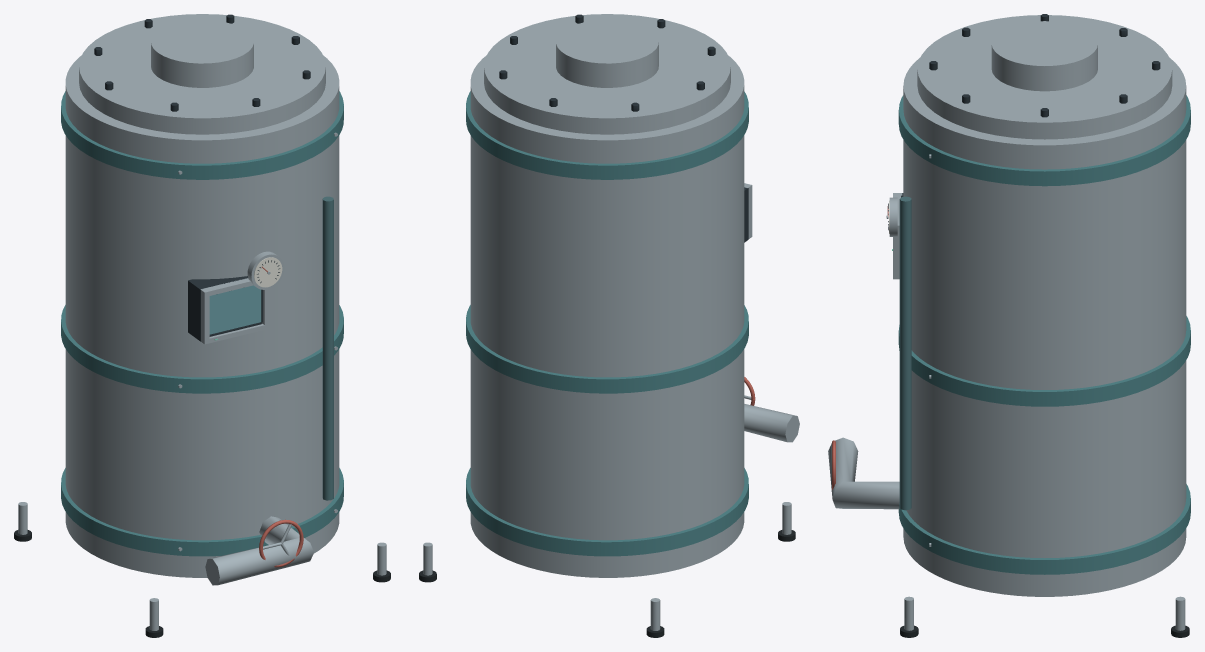
The model's file is PC_SF_ExpansionVessel.fbx.
3 views of the same model, side by side, from view 1: azimuth 30°, elevation 25°; view 2: azimuth 150°, elevation 25°; view 3: azimuth 270°, elevation 25° (orthographic). The views are drawn at different scales.
Parts seen in each view (by area): view 1: PC_SF_ExpansionVessel; view 2: PC_SF_ExpansionVessel; view 3: PC_SF_ExpansionVessel.
Part boxes in pixels (x1,y1,x2,y2): PC_SF_ExpansionVessel: (14, 14, 390, 637); PC_SF_ExpansionVessel: (419, 14, 799, 637); PC_SF_ExpansionVessel: (828, 14, 1190, 637).
Bounding box in the file's own units: 126 × 254 × 156.
